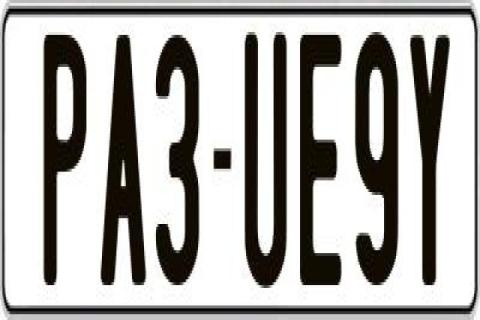0: (152, 35, 202, 303), (352, 29, 396, 294)
A: (100, 32, 152, 288)
E: (296, 35, 344, 294)
P: (44, 32, 92, 285)
U: (244, 29, 290, 291)
Y: (410, 35, 458, 291)
